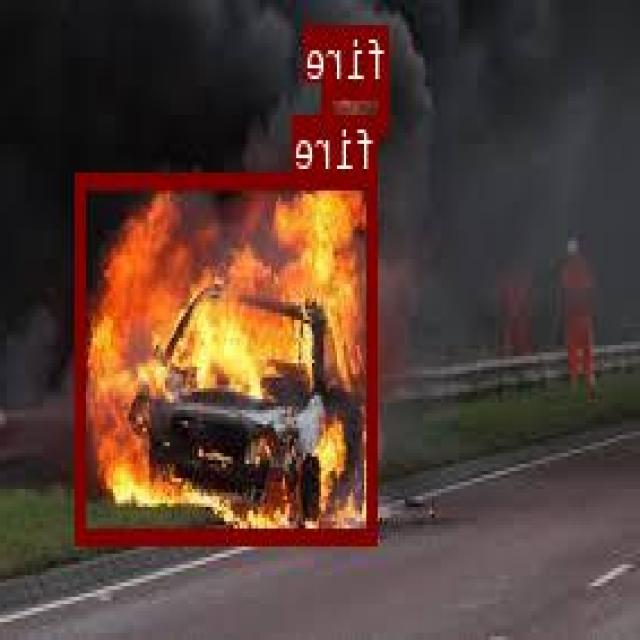fire: (79, 171, 380, 542), (324, 79, 390, 131)
